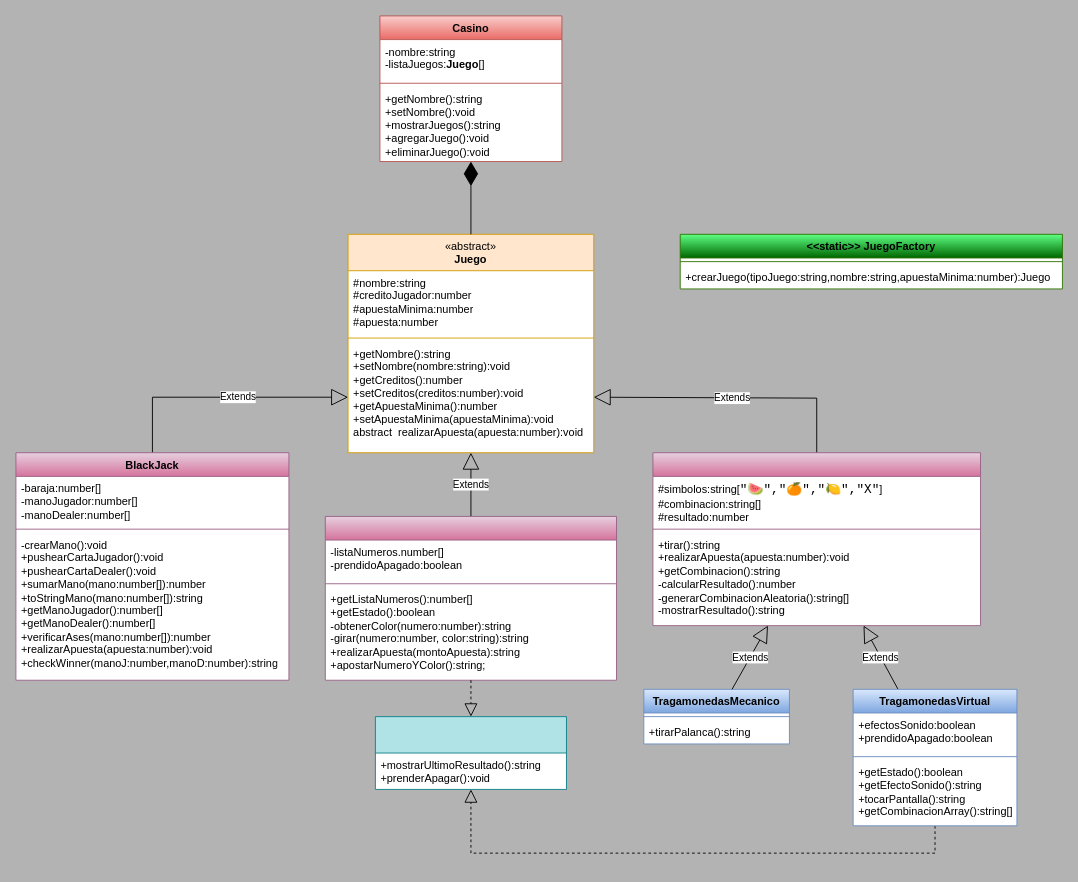
Some shapes in this 1078 by 882 pixel diagram are drawn without their labels. Here are the shapes that lost their labels. From the top down, the box of each, then its label:
(652, 452, 981, 626): Tragamonedas
(324, 516, 617, 680): Ruleta
(374, 716, 566, 789): «interface» IJuegosVirtuales
